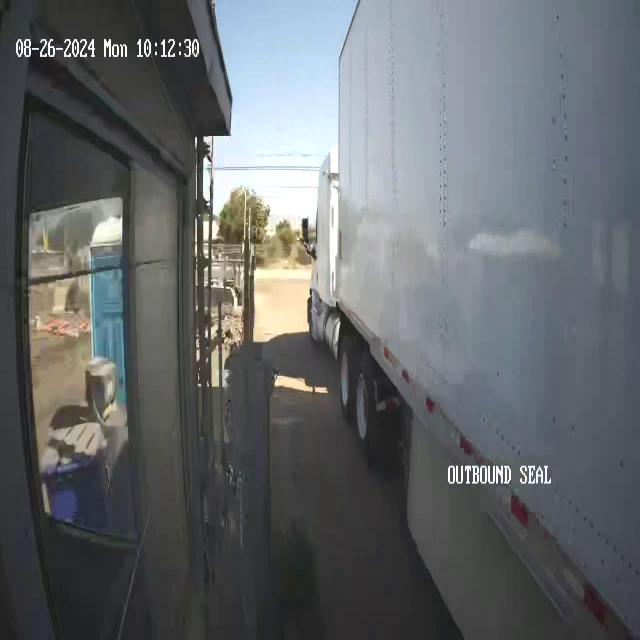CONTAINER: (336, 1, 639, 627)
